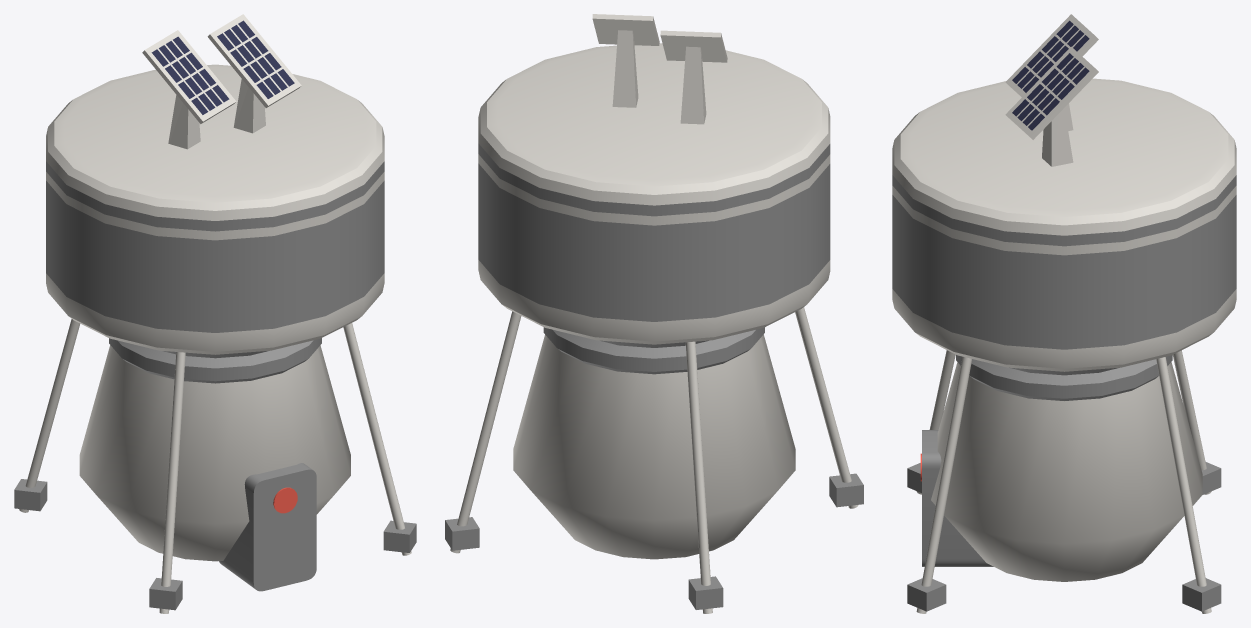
The model's file is 05 Space lab_3.FBX.
3 views of the same model, side by side, from view 1: azimuth 30°, elevation 25°; view 2: azimuth 150°, elevation 25°; view 3: azimuth 270°, elevation 25° (orthographic). The views are drawn at different scales.
Parts seen in each view (by area): view 1: Cylinder042; view 2: Cylinder042; view 3: Cylinder042.
Part boxes in pixels (x1=…): Cylinder042: x1=14, y1=14, x2=416, y2=613; Cylinder042: x1=445, y1=14, x2=863, y2=613; Cylinder042: x1=892, y1=14, x2=1236, y2=613.
Size of the model in its own units: 2800 by 4481 by 2757.
